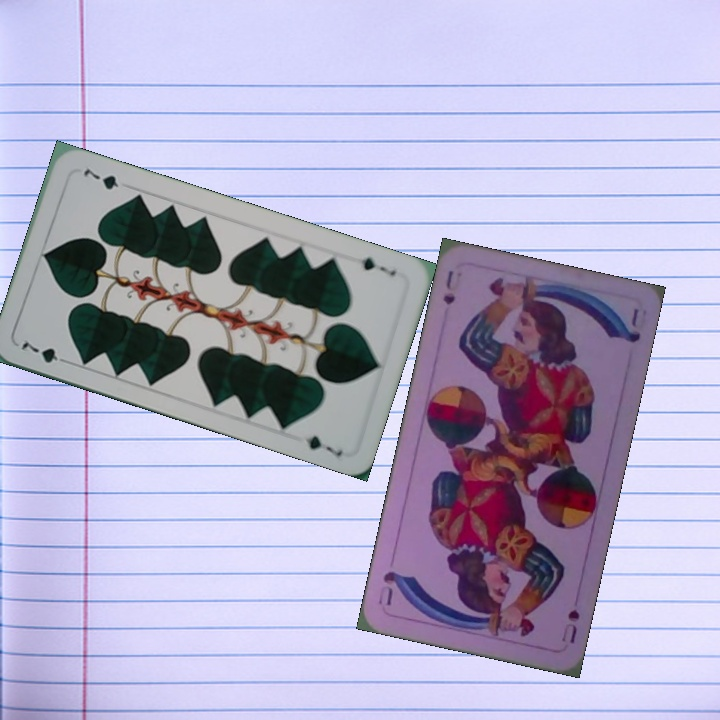G7: (17, 337, 73, 367), (357, 253, 399, 279)
SU: (557, 605, 582, 646), (439, 266, 458, 308)
